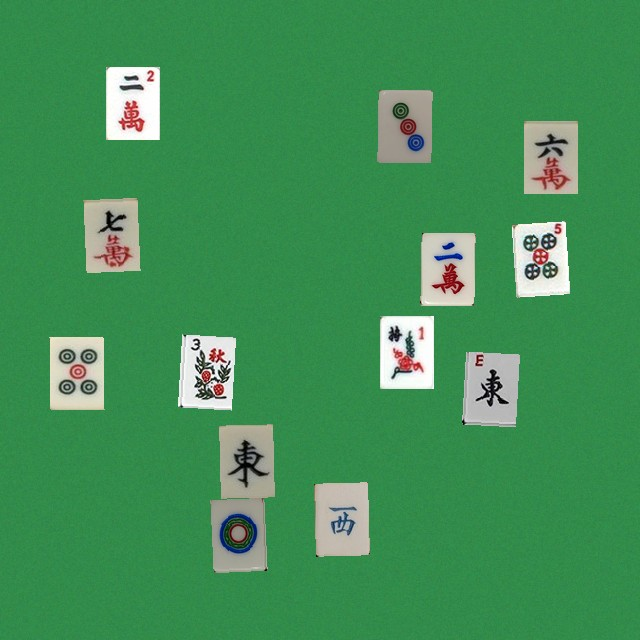tile: (511, 221, 565, 294), (105, 66, 159, 139), (314, 482, 368, 555), (83, 197, 137, 270), (219, 424, 273, 497), (461, 351, 515, 424), (49, 336, 103, 409), (420, 232, 474, 305), (377, 89, 431, 162), (523, 120, 577, 193), (210, 497, 264, 570), (177, 334, 231, 407), (379, 315, 433, 388)
